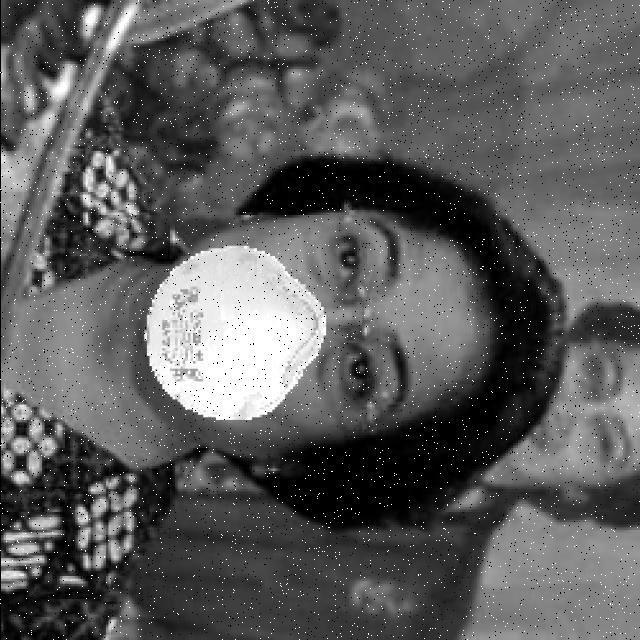no_gloves: (323, 157, 568, 485)
